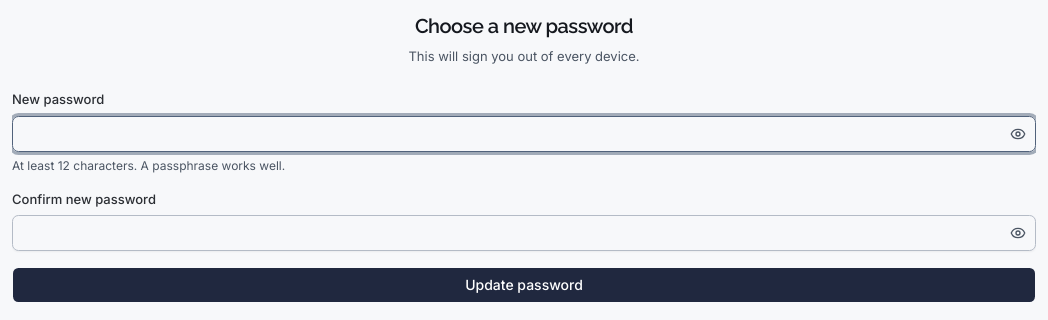
ResetPasswordForm › shows the invalid-link state for an expired or used token
Step 1. Type "a brand new passphrase" into the password field labelled "New password" → (524, 134), box left=12, top=116, right=1036, bottom=152
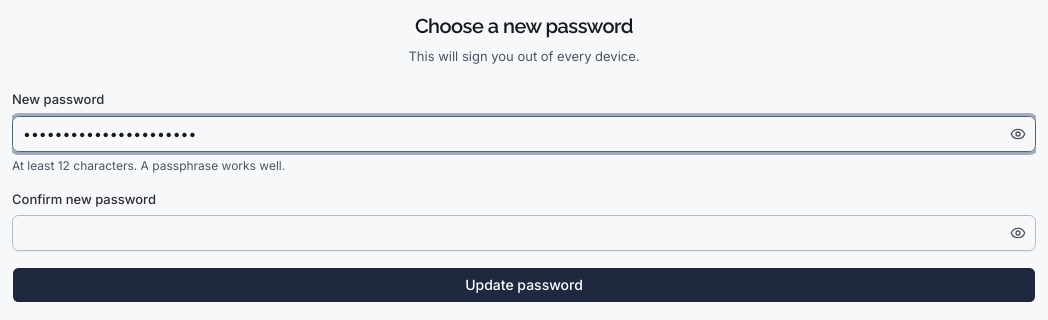
Step 2. Type "a brand new passphrase" into the password field labelled "Confirm new password" → (524, 233), box left=12, top=215, right=1036, bottom=251
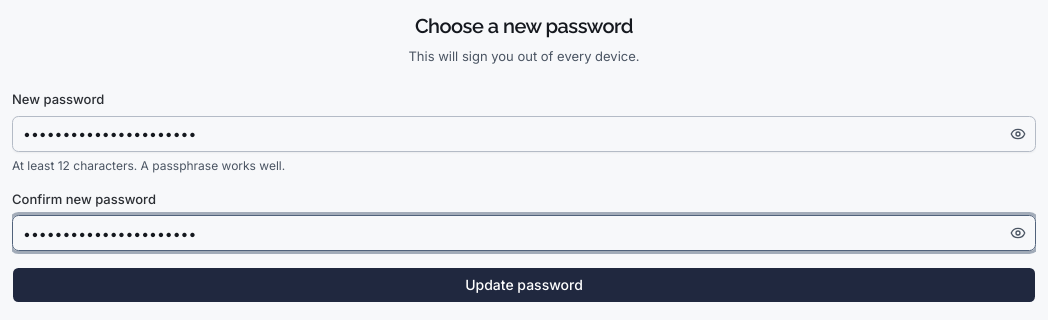
Step 3. Click the button "Update password" → (524, 285), box left=12, top=267, right=1036, bottom=303
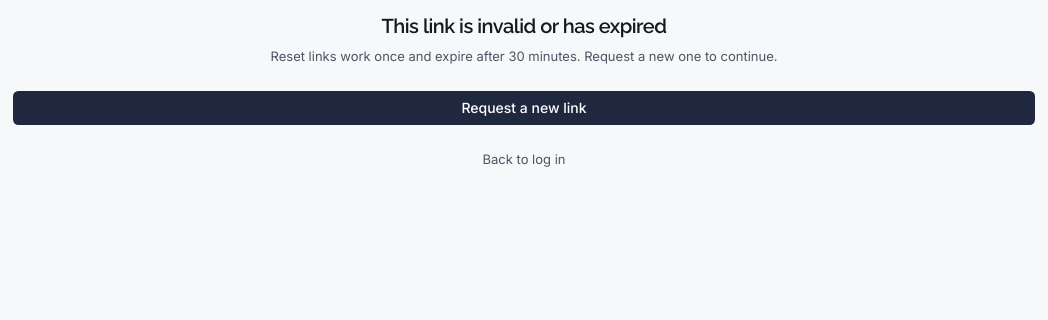
expect the heading "This link is invalid or has expired" is shown: met, box left=382, top=14, right=666, bottom=38
